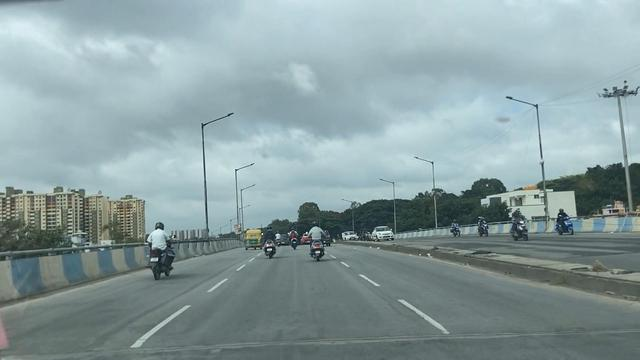LMV: (148, 227, 181, 277), (309, 229, 328, 261), (263, 226, 281, 259), (247, 227, 259, 251), (289, 225, 299, 250)
UnsurfacedRoad: (162, 337, 455, 357), (469, 324, 640, 345)
